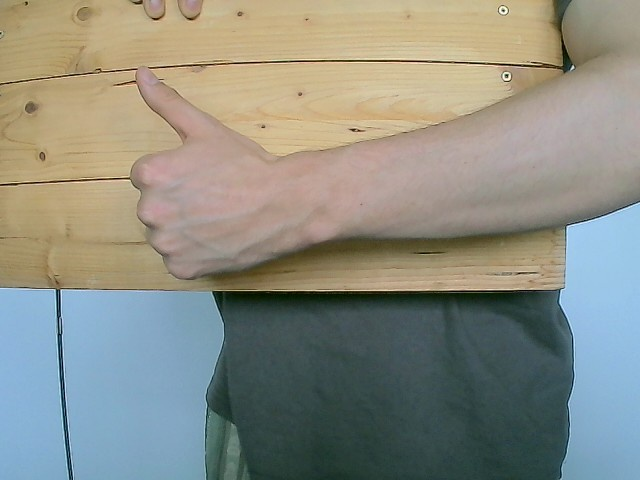up: (128, 64, 306, 281)
